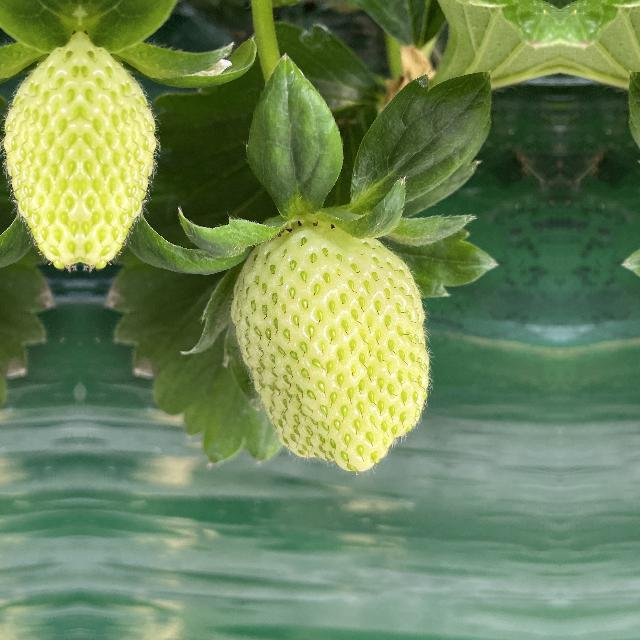Health_25: (228, 224, 444, 493)
